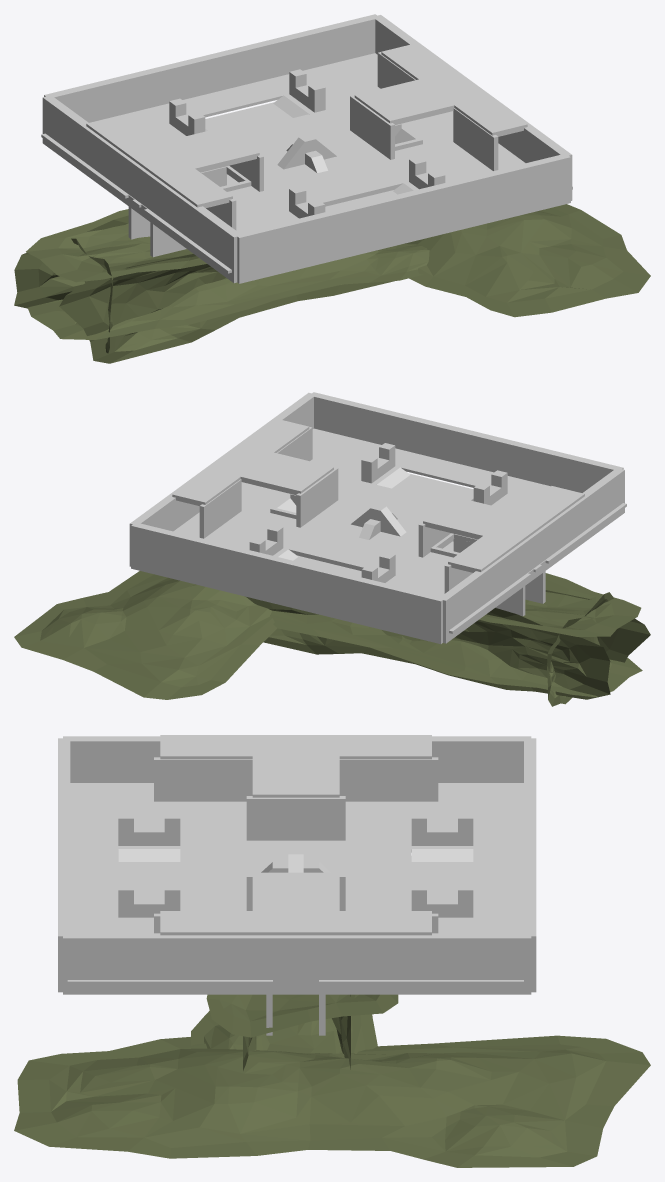
The model's file is arena-collision.glb.
3 views of the same model, one above another, from view 1: azimuth 30°, elevation 25°; view 2: azimuth 150°, elevation 25°; view 3: azimuth 270°, elevation 25° (orthographic). The views are drawn at different scales.
Parts seen in each view (by area): view 1: SM_Generic_Mountains_Soft_01.008, Cube.003, Cube.002, SM_Generic_Mountains_Soft_01.009, SM_Generic_Mountains_Soft_01.010, Cube, Cube.004, SM_Generic_Mountains_Soft_01.011, Cube.012, Cube.011, Cube.043, Cube.001 (+16 smaller); view 2: SM_Generic_Mountains_Soft_01.008, Cube.002, Cube.003, SM_Generic_Mountains_Soft_01.012, Cube, Cube.004, SM_Generic_Mountains_Soft_01.010, SM_Generic_Mountains_Soft_01.011, Cube.012, Cube.011, Cube.041, Cube.043 (+17 smaller); view 3: SM_Generic_Mountains_Soft_01.008, Cube.001, Cube.004, Cube, Cube.044, Cube.040, Cube.011, Cube.012, SM_Generic_Mountains_Soft_01.011, Cube.006, Cube.007, Cube.008 (+13 smaller).
Part boxes in pixels (x1,y1,x2,y2): SM_Generic_Mountains_Soft_01.008: (409, 204, 650, 317); Cube.003: (236, 154, 570, 283); Cube.002: (44, 14, 378, 122); SM_Generic_Mountains_Soft_01.009: (59, 238, 425, 363); SM_Generic_Mountains_Soft_01.010: (28, 245, 429, 339); Cube: (42, 96, 241, 283); Cube.004: (226, 110, 408, 210); SM_Generic_Mountains_Soft_01.011: (26, 209, 206, 282); Cube.012: (86, 115, 232, 208); Cube.011: (381, 43, 527, 136); Cube.043: (263, 53, 453, 141); Cube.001: (373, 15, 572, 200); SM_Generic_Mountains_Soft_01.008: (14, 571, 277, 699); Cube.002: (131, 522, 444, 644); Cube.003: (310, 392, 623, 492); SM_Generic_Mountains_Soft_01.012: (245, 596, 610, 699); Cube: (438, 468, 624, 643); Cube.004: (283, 480, 453, 569); SM_Generic_Mountains_Soft_01.010: (270, 610, 642, 697); SM_Generic_Mountains_Soft_01.011: (479, 573, 641, 636); Cube.012: (448, 486, 584, 572); Cube.011: (172, 418, 309, 505); Cube.041: (241, 428, 417, 510); Cube.043: (173, 503, 322, 556); SM_Generic_Mountains_Soft_01.008: (14, 1035, 650, 1167); Cube.001: (63, 933, 531, 994); Cube.004: (180, 836, 411, 910); Cube: (63, 736, 531, 782); Cube.044: (70, 783, 272, 849); Cube.040: (345, 783, 523, 852); Cube.011: (160, 911, 431, 935); Cube.012: (160, 735, 431, 759); SM_Generic_Mountains_Soft_01.011: (206, 994, 398, 1037); Cube.006: (246, 796, 345, 840); Cube.007: (339, 757, 438, 801); Cube.008: (154, 757, 252, 801).
Size of the model in its own units: 50.29 by 14.91 by 41.28.
1 material, 1 textured.
